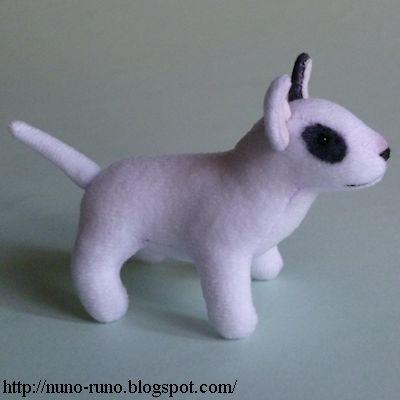bull_terrier: (10, 52, 391, 340)
